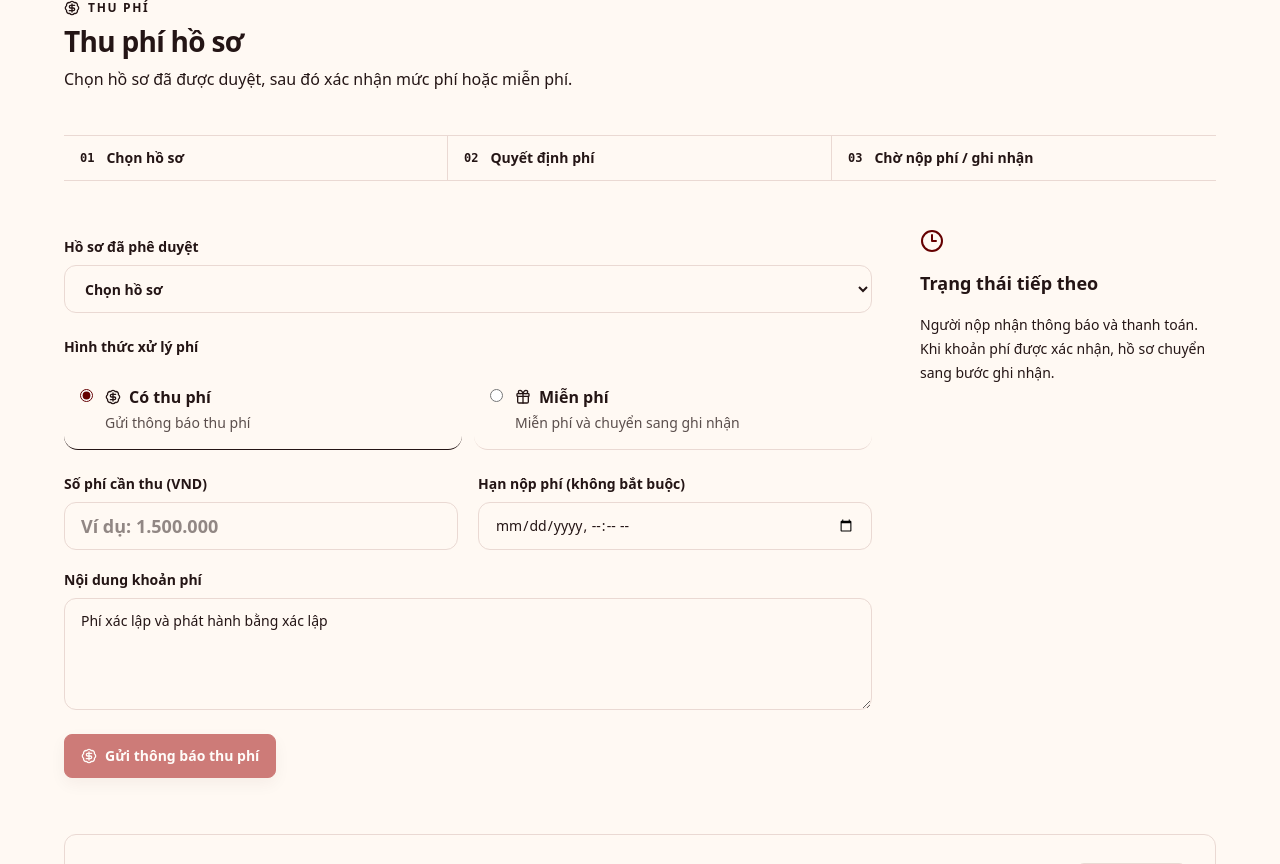
it: PaymentRequestWorkspace › can waive the fee without creating a payment order
This screenshot has width=1280, height=864.
Select "CNS-2026-C53E911EDDDA · Video chào mừng Tinh hoa Việt" in the dropdown labelled "Hồ sơ đã phê duyệt" at [468, 289], box [64, 265, 872, 313]
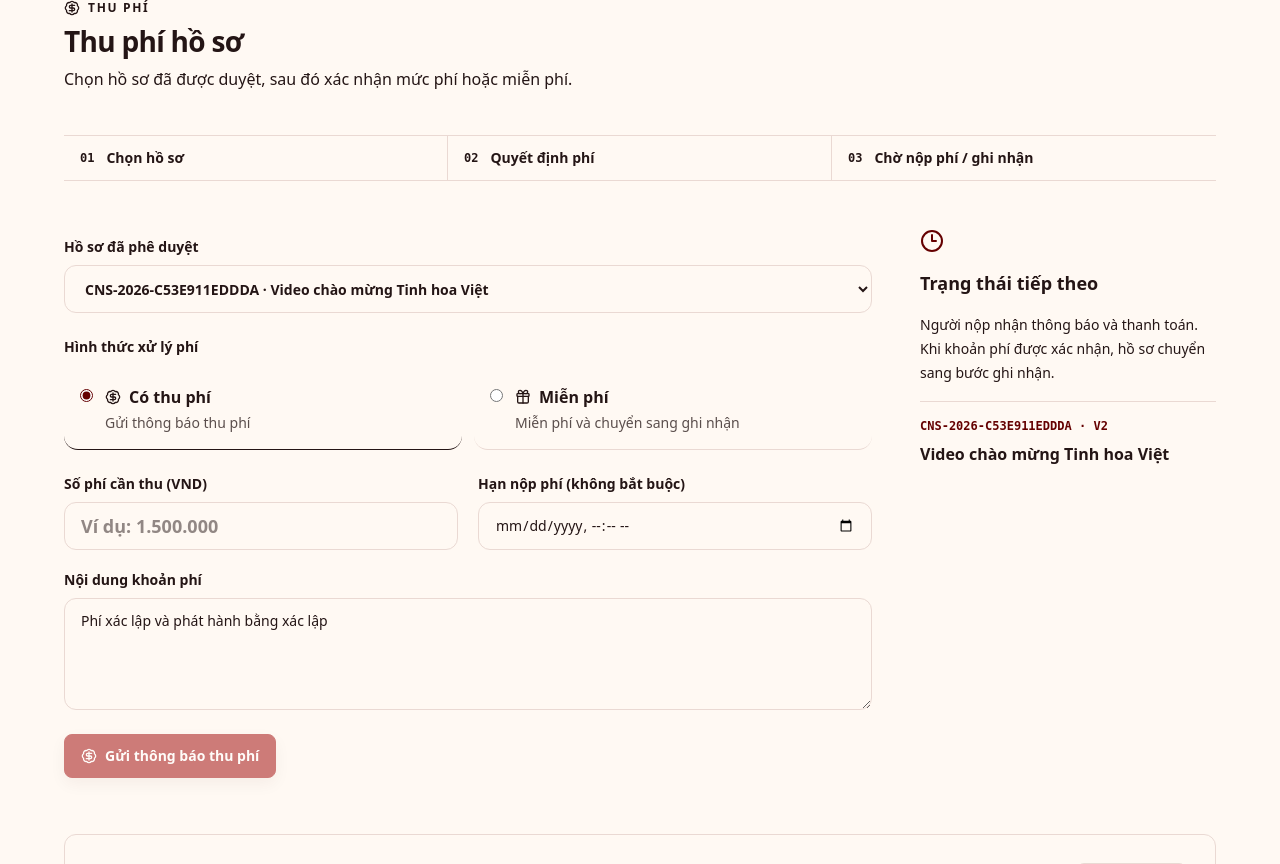
Click the radio button labelled "Miễn phí" at [496, 396], box [490, 389, 503, 402]
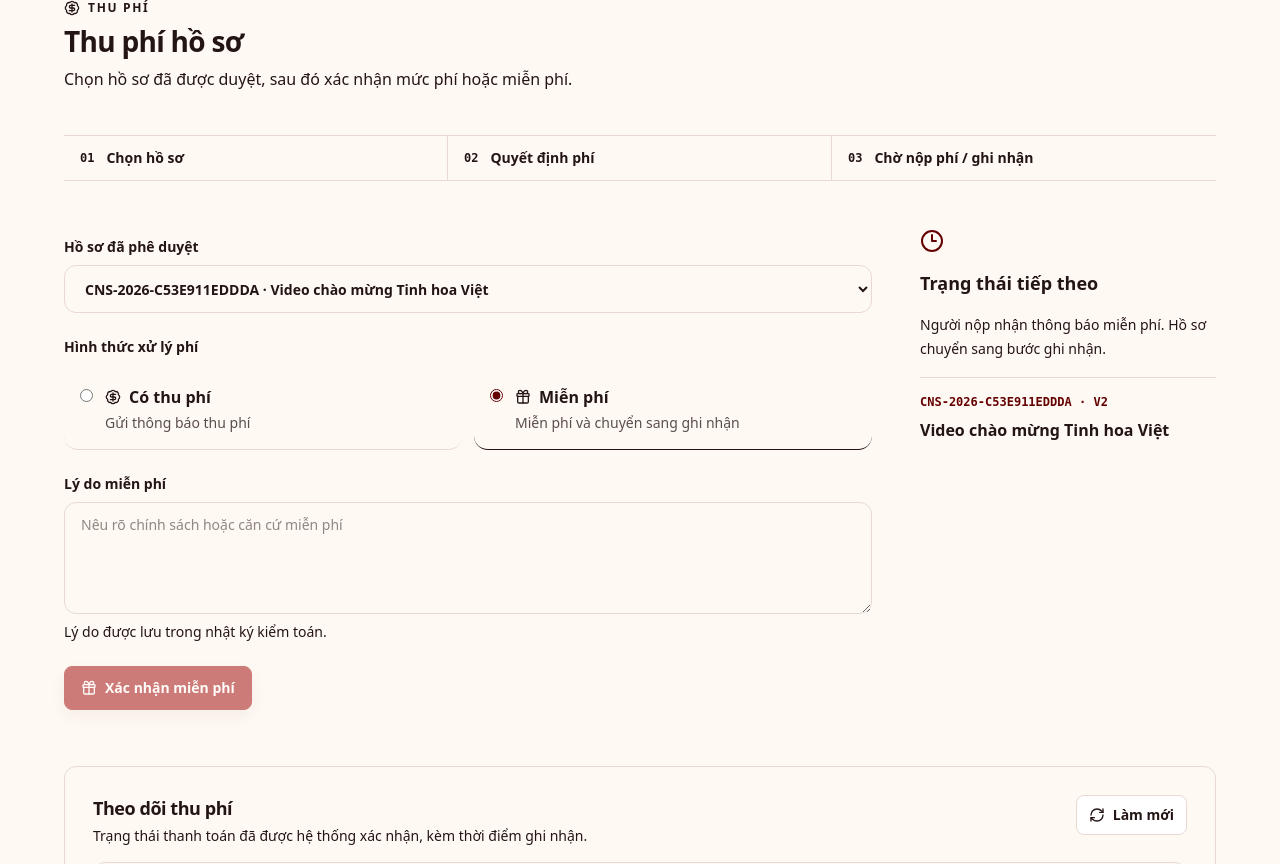
Result: the radio button labelled "Miễn phí" is checked at [490, 389, 503, 402]
Type "Hồ sơ thuộc chương trình hỗ trợ miễn phí." into the text box labelled "Lý do miễn phí" at [468, 558], box [64, 502, 872, 614]
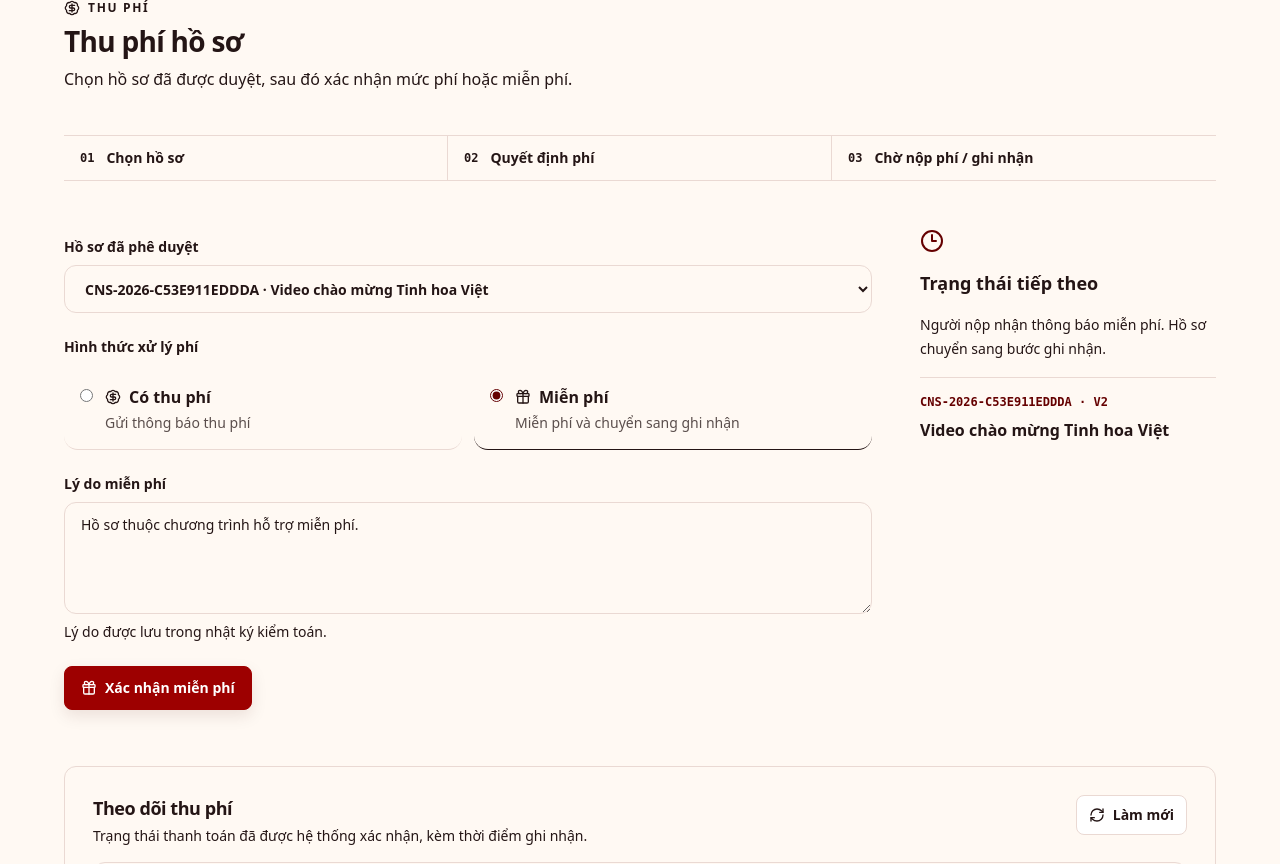
Click the button "Xác nhận miễn phí" at [158, 688], box [64, 666, 252, 710]
(page scrolled)
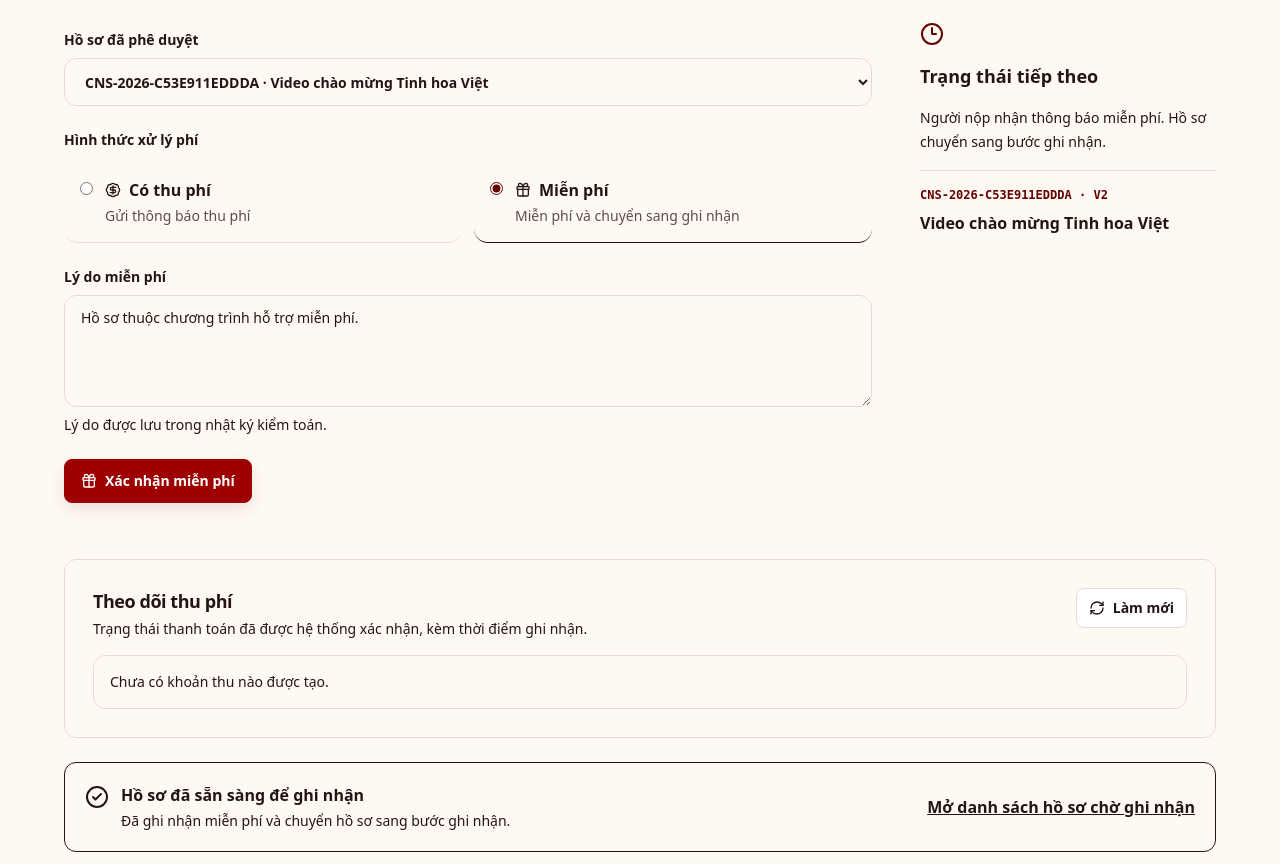
Result: the heading "Hồ sơ đã sẵn sàng để ghi nhận" is shown at [121, 784, 364, 806]
